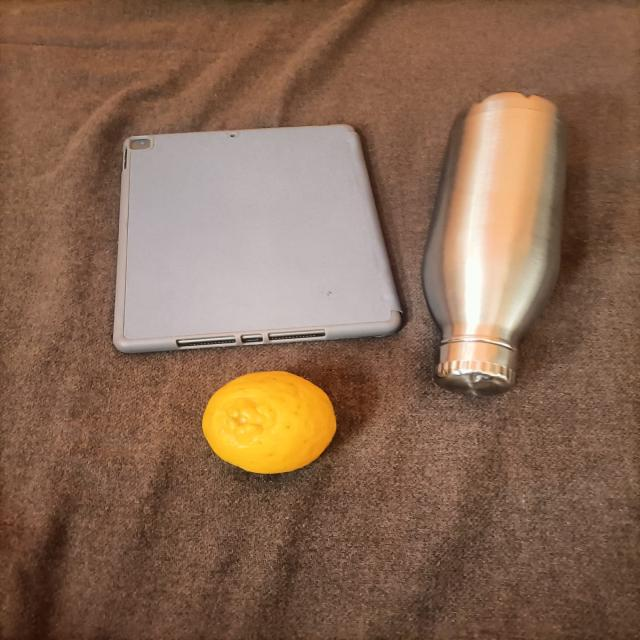bottle: (426, 84, 593, 401)
orange: (182, 370, 352, 484)
tablet: (87, 117, 412, 361)
